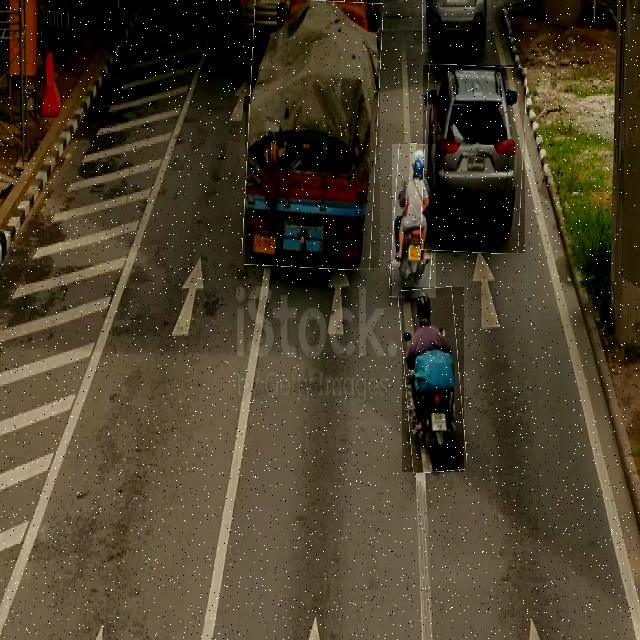Car: (423, 65, 525, 253), (422, 0, 491, 52)
Motorcycle: (402, 287, 464, 472), (392, 144, 436, 298)
Truck: (245, 0, 380, 268)
